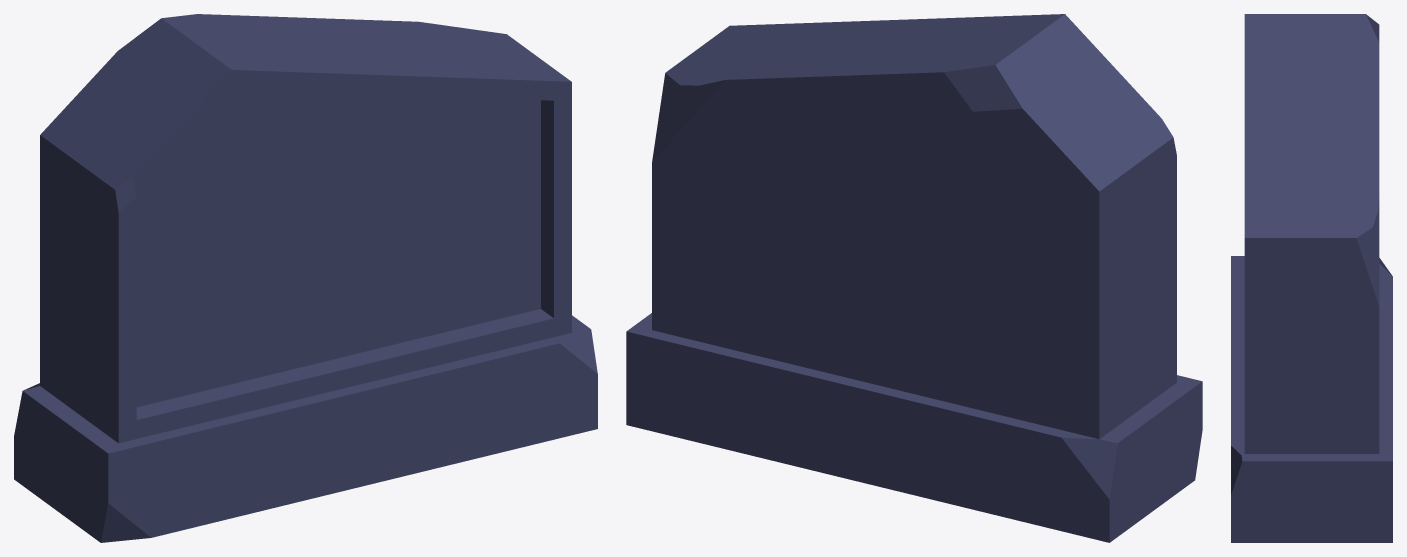
File: Stone2.fbx
3 renders of one model, left to right at view 1: azimuth 30°, elevation 25°; view 2: azimuth 150°, elevation 25°; view 3: azimuth 270°, elevation 25°, orthographic. The views are drawn at different scales.
Visible parts, largest first — view 1: stone2; view 2: stone2; view 3: stone2.
Part boxes in pixels (x1=…): stone2: x1=14, y1=14, x2=597, y2=542; stone2: x1=626, y1=14, x2=1202, y2=542; stone2: x1=1231, y1=14, x2=1392, y2=542.
Size of the model in its own units: 216 by 186 by 72.
